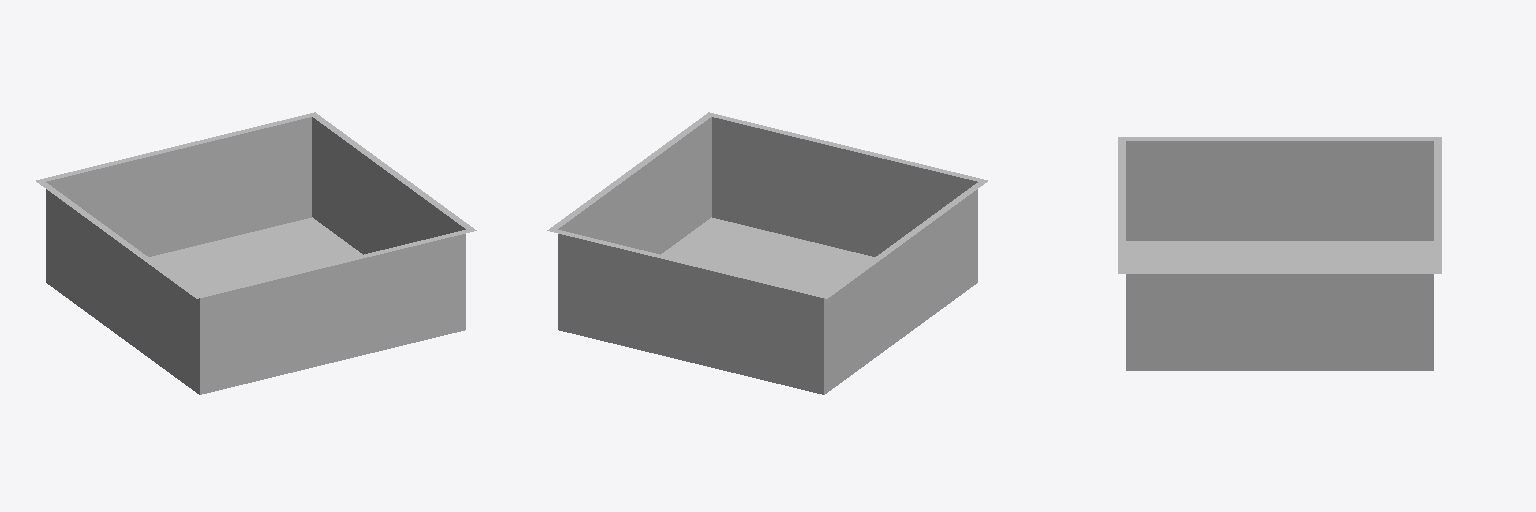
The model's file is obj_ar_frame.obj.
3 views of the same model, side by side, from view 1: azimuth 30°, elevation 25°; view 2: azimuth 150°, elevation 25°; view 3: azimuth 270°, elevation 25° (orthographic).
Parts seen in each view (by area): view 1: obj_ar_frame; view 2: obj_ar_frame; view 3: obj_ar_frame.
Part boxes in pixels (x1,y1,x2,y2): obj_ar_frame: (36,112,476,394); obj_ar_frame: (547,112,987,394); obj_ar_frame: (1118,137,1441,370).
Bounding box in the file's own units: 2 × 0.6856 × 2.